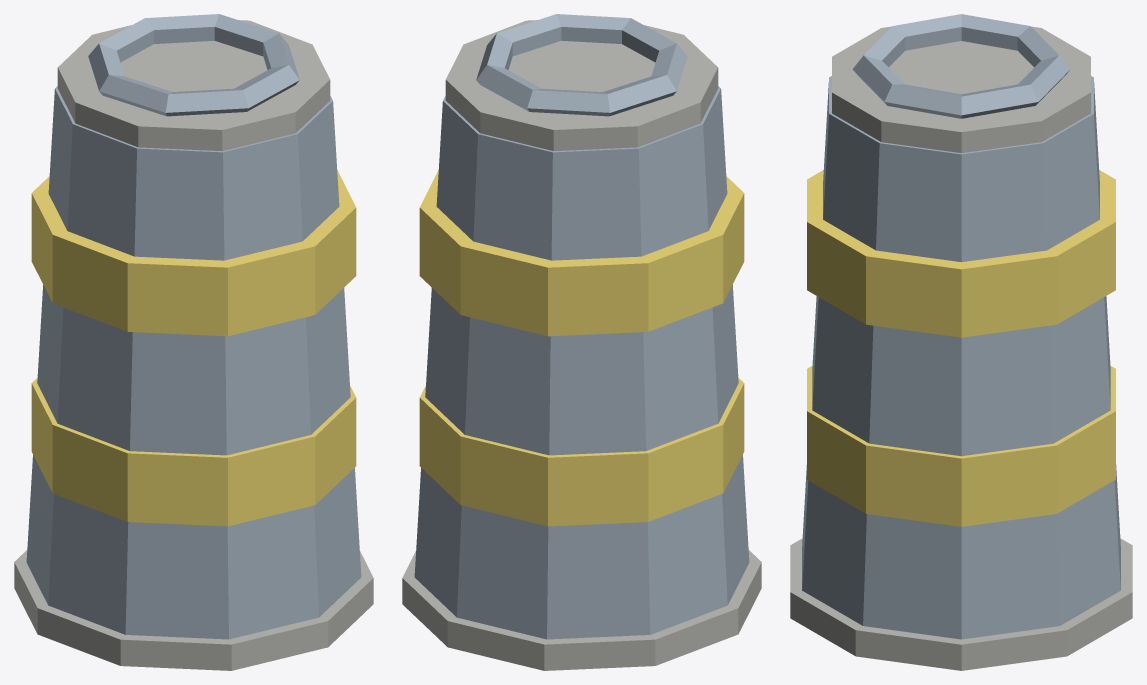
File: wipe-day-survival-island-road-barrel-blue-07f71d5c__27443.glb
3 renders of one model, left to right at view 1: azimuth 30°, elevation 25°; view 2: azimuth 150°, elevation 25°; view 3: azimuth 270°, elevation 25°, orthographic.
Visible parts, largest first — view 1: road-barrel-blue; view 2: road-barrel-blue; view 3: road-barrel-blue.
Boxes of the visible parts, x1=… form: road-barrel-blue: x1=14, y1=14, x2=373, y2=670; road-barrel-blue: x1=402, y1=14, x2=761, y2=670; road-barrel-blue: x1=790, y1=14, x2=1132, y2=670.
Size of the model in its own units: 0.62 by 1.03 by 0.5897.
